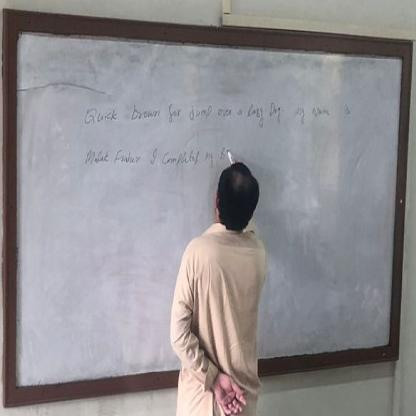Handwritten text: (83, 87, 353, 134), (84, 139, 218, 186)
Lecturer: (167, 160, 284, 393)
Whiteboard: (2, 26, 406, 406)
